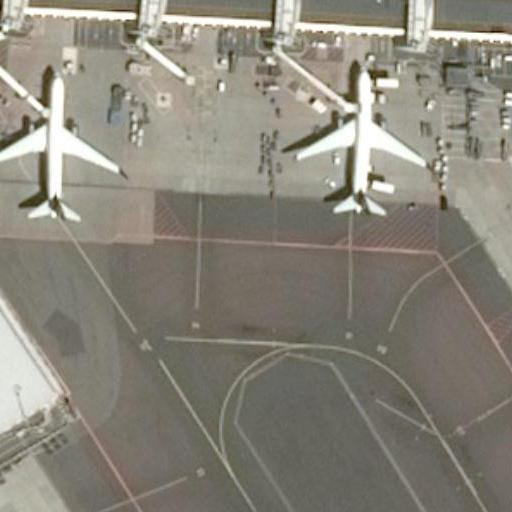Aircraft: (286, 60, 424, 219), (0, 67, 121, 220)
